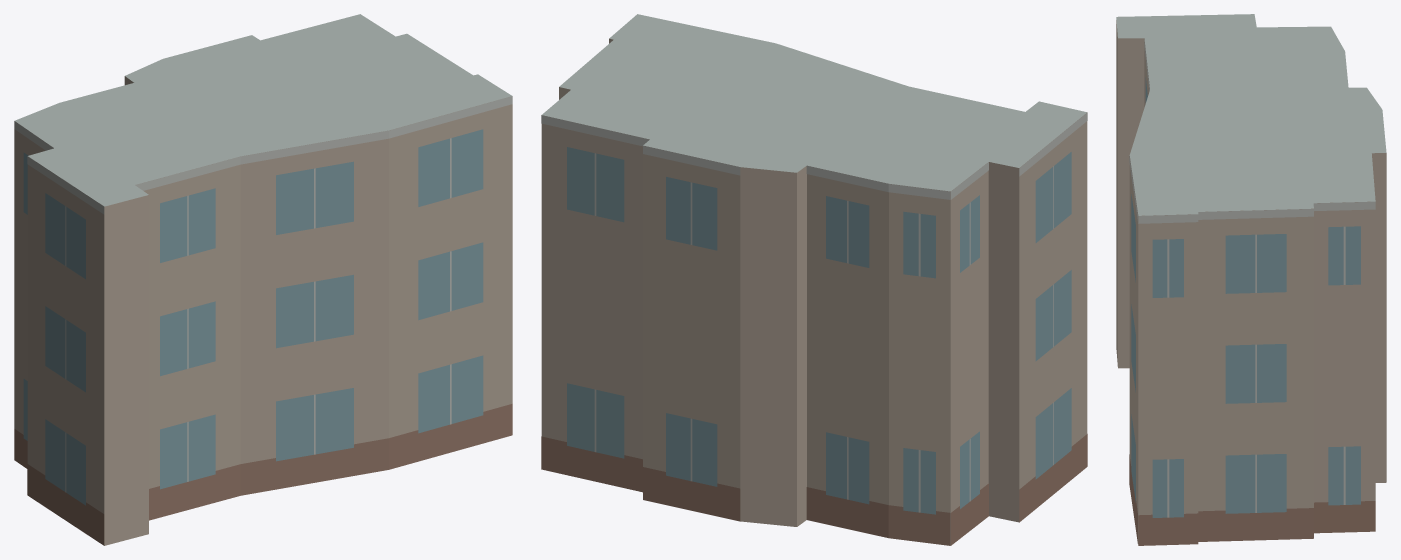
The model's file is survey-upis-32661316.glb.
The picture shows the model from 3 angles, left to right: view 1: azimuth 30°, elevation 25°; view 2: azimuth 150°, elevation 25°; view 3: azimuth 270°, elevation 25°; orthographic projection. The views are drawn at different scales.
Visible parts, largest first — view 1: survey-upis-32661316.tmp; view 2: survey-upis-32661316.tmp; view 3: survey-upis-32661316.tmp.
Part boxes in pixels (x1,y1,x2,y2): survey-upis-32661316.tmp: [14, 14, 512, 545]; survey-upis-32661316.tmp: [541, 14, 1087, 545]; survey-upis-32661316.tmp: [1116, 14, 1386, 545].
Size of the model in its own units: 13.29 by 10.12 by 7.52.
